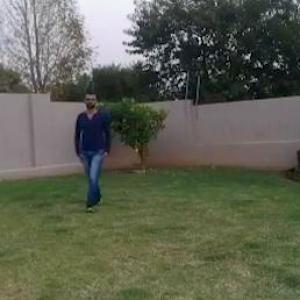follow: (74, 92, 113, 212)
